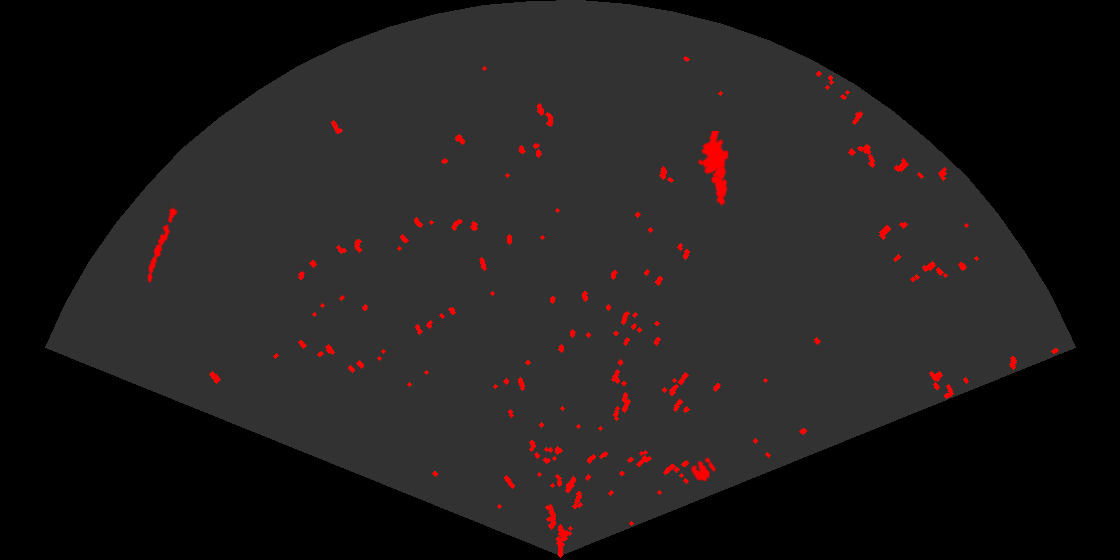ball: (689, 456, 718, 483)
chain: (146, 201, 179, 285)
frogman: (696, 131, 730, 207)
